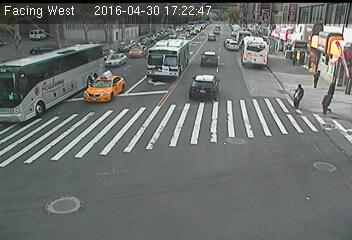neg: (143, 151, 164, 179), (94, 64, 112, 88), (192, 125, 209, 147), (153, 46, 169, 68), (222, 33, 234, 50), (75, 159, 86, 175), (40, 46, 50, 59), (203, 51, 211, 61)
pos: (317, 88, 341, 119), (288, 82, 308, 109), (326, 78, 341, 98), (310, 68, 325, 88), (289, 50, 301, 66)
